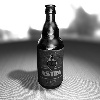beer: (36, 2, 72, 99)
